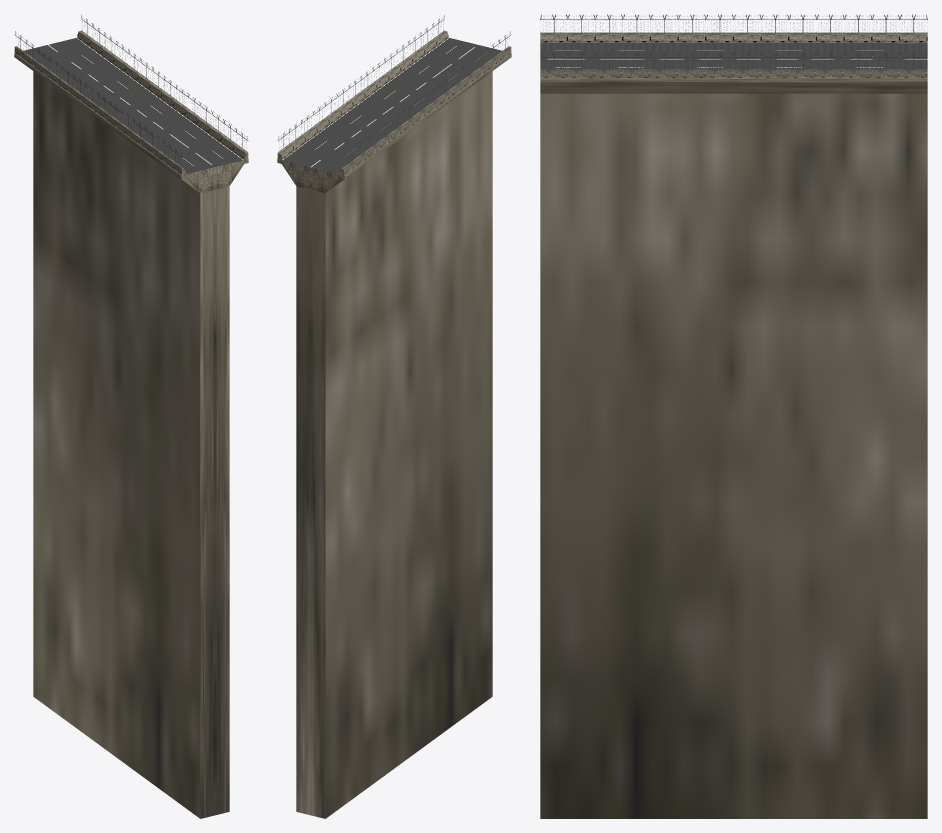
File: Pista.fbx
The picture shows the model from 3 angles, left to right: view 1: azimuth 30°, elevation 25°; view 2: azimuth 150°, elevation 25°; view 3: azimuth 270°, elevation 25°; orthographic projection. The views are drawn at different scales.
Visible parts, largest first — view 1: Base.001; view 2: Base.001; view 3: Base.001.
Part boxes in pixels (x1=…): Base.001: x1=14, y1=15, x2=248, y2=818; Base.001: x1=277, y1=15, x2=511, y2=818; Base.001: x1=540, y1=14, x2=927, y2=818.
Size of the model in its own units: 2318 by 22029 by 9946.
